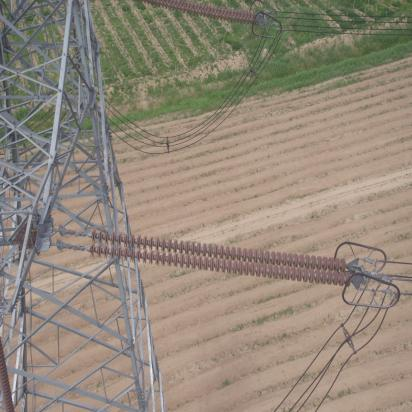insulator: (69, 225, 356, 288), (129, 1, 259, 26)
